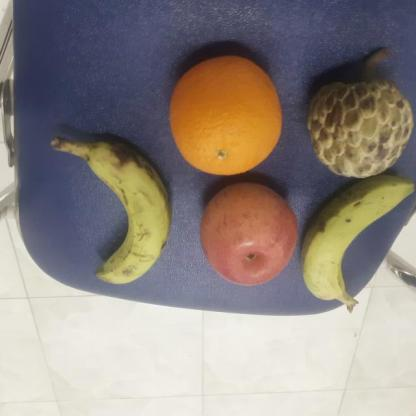annona: (306, 77, 416, 179)
apple: (196, 180, 299, 289)
banana: (299, 172, 416, 304), (87, 141, 174, 288)
orange: (169, 53, 281, 176)
